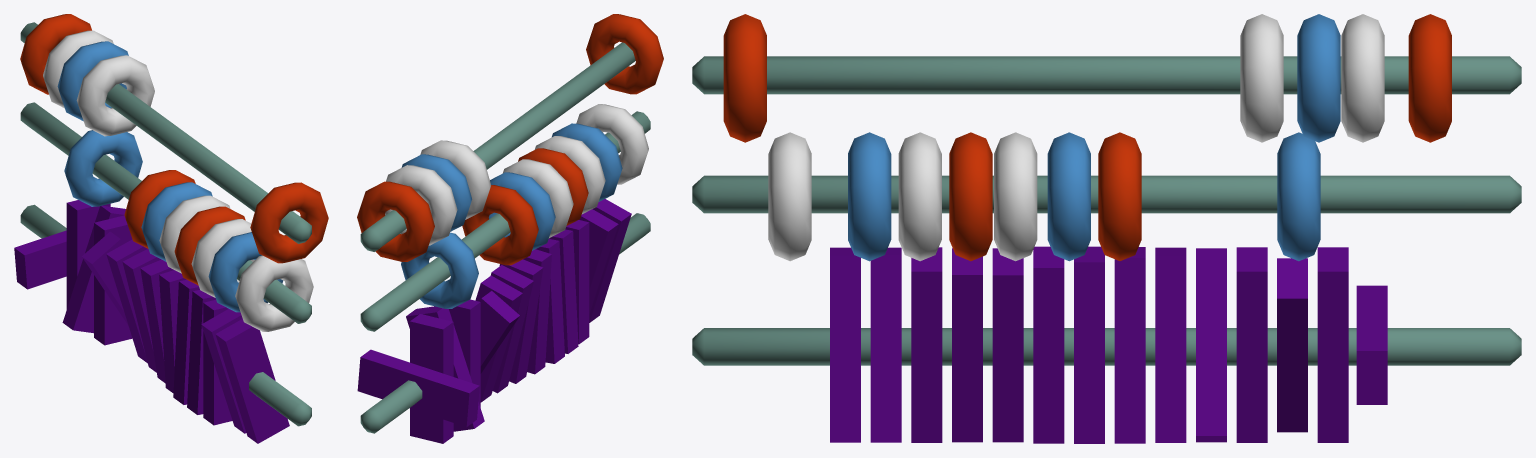
The model's file is Toys_LP.fbx.
3 renders of one model, left to right at view 1: azimuth 30°, elevation 25°; view 2: azimuth 150°, elevation 25°; view 3: azimuth 270°, elevation 25°, orthographic. The views are drawn at different scales.
Parts seen in each view (by area): view 1: toys; view 2: toys; view 3: toys.
Part boxes in pixels (x1,y1,x2,y2): toys: (14, 14, 328, 443); toys: (357, 14, 663, 443); toys: (692, 14, 1521, 443).
Bounding box in the file's own units: 19.4 × 45.97 × 83.31.
